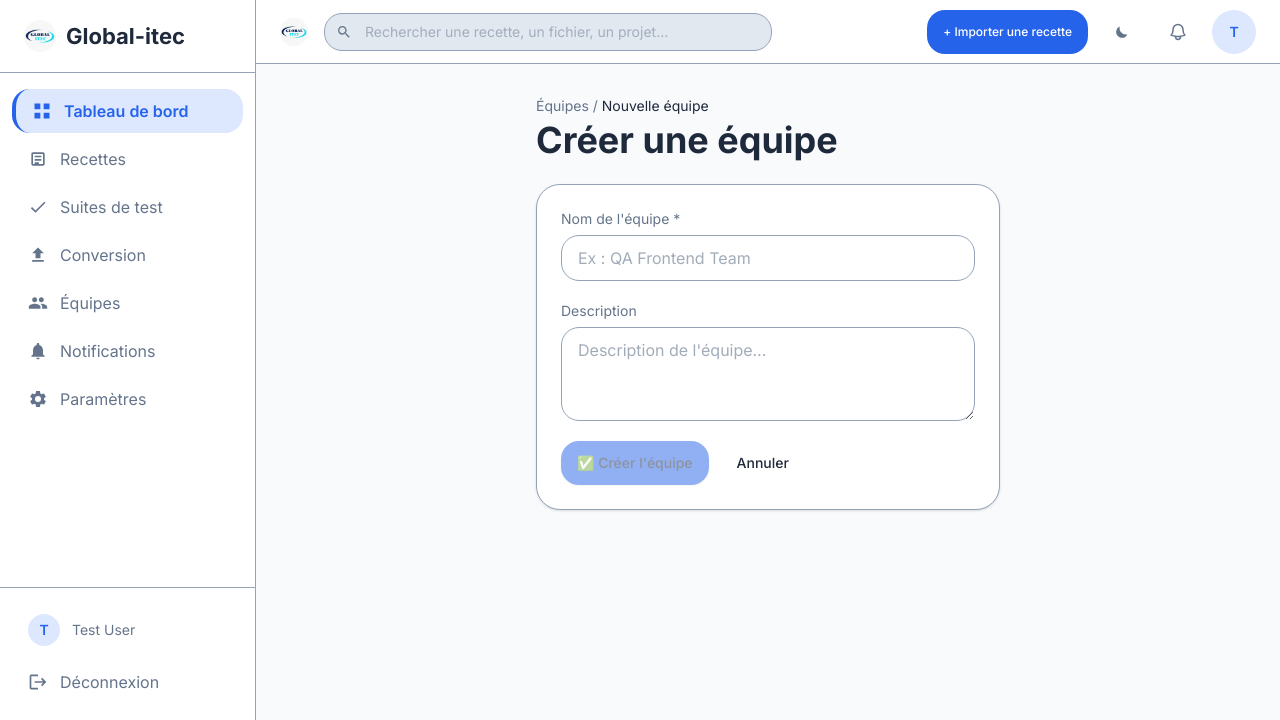
TeamCreatePage › shows error on create failure
This screenshot has width=1280, height=720.
Type "Existing" into the field with placeholder "Ex : QA Frontend Team" at (768,258), box top-left (561, 235), bottom-right (975, 281)
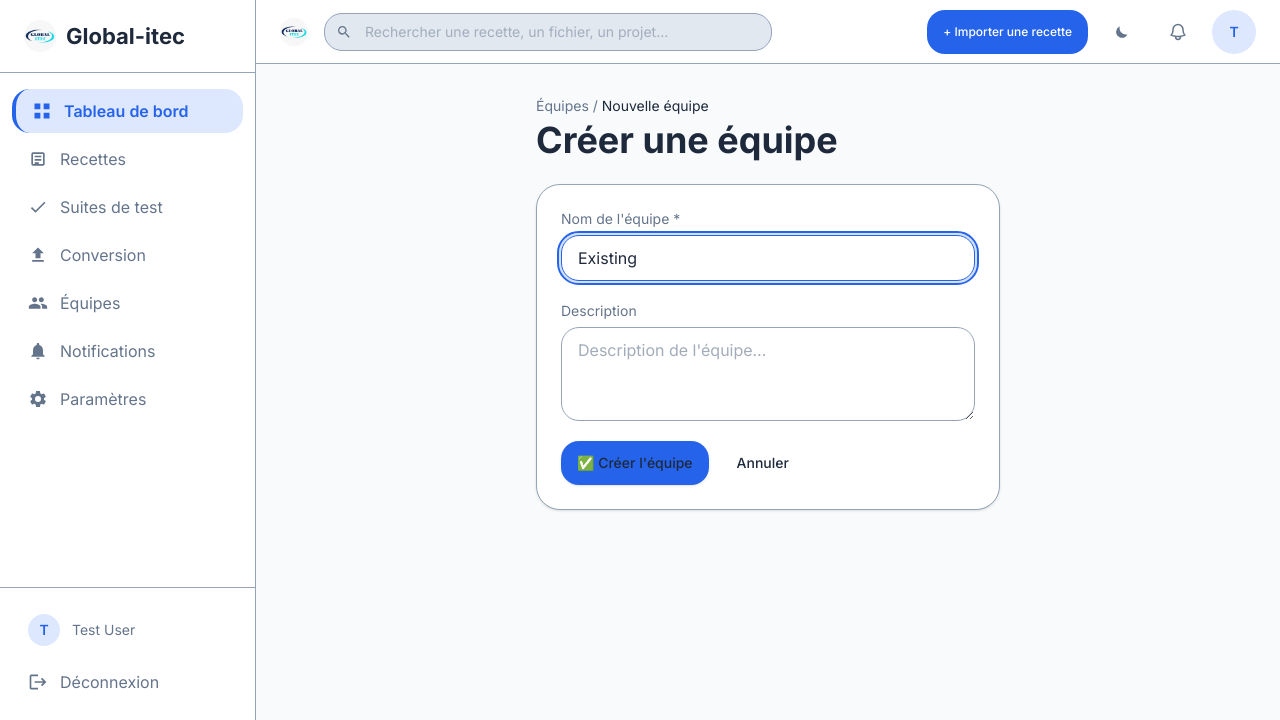
Click the button "✅ Créer l'équipe" at (635,463), box top-left (561, 441), bottom-right (709, 485)
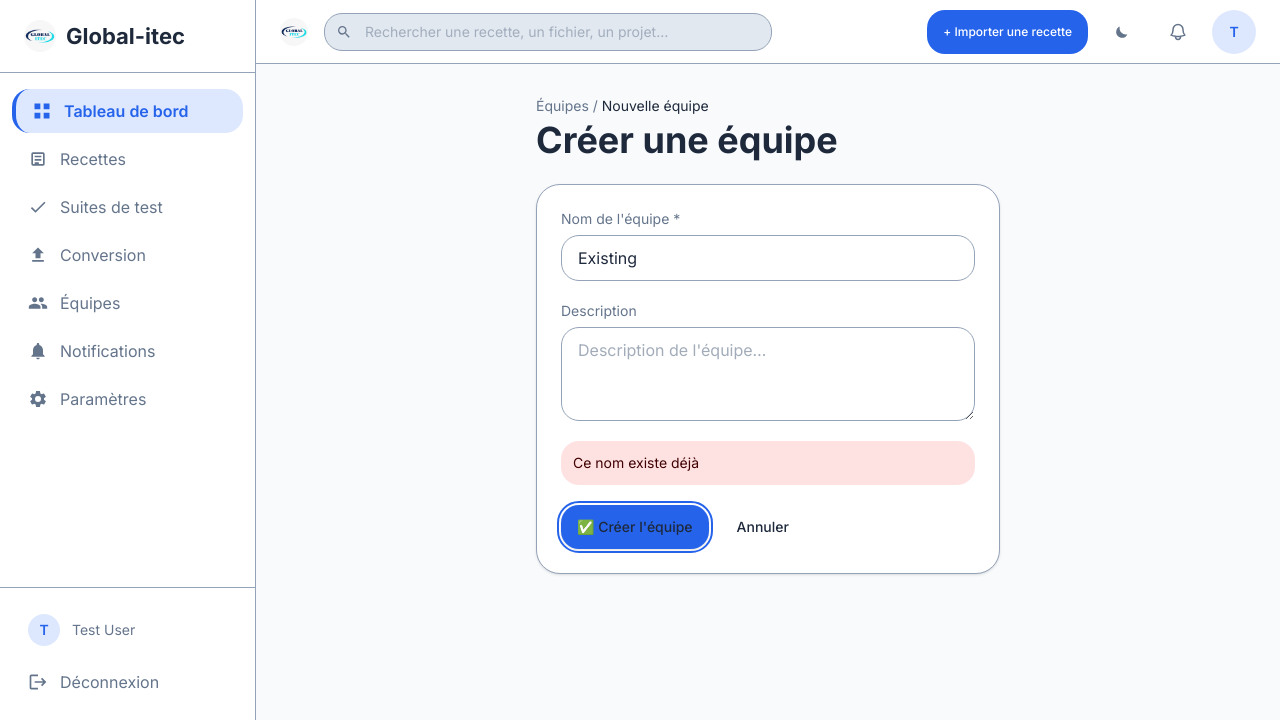
Result: the text "Ce nom existe déjà" is shown at top-left (561, 441), bottom-right (975, 485)
